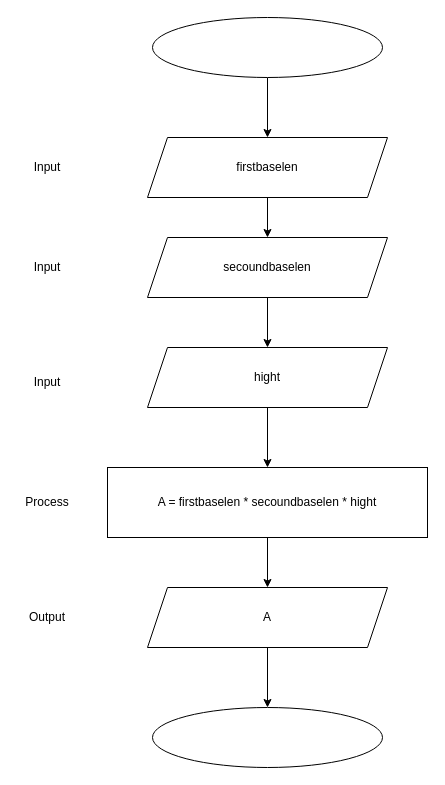
The diagram is 445 pixels wide and 785 high, and some of its shapes have lost their labels. The centre of each missing label's shape, as x and y in pixels:
End: the point at 267,737
start: the point at 267,47
